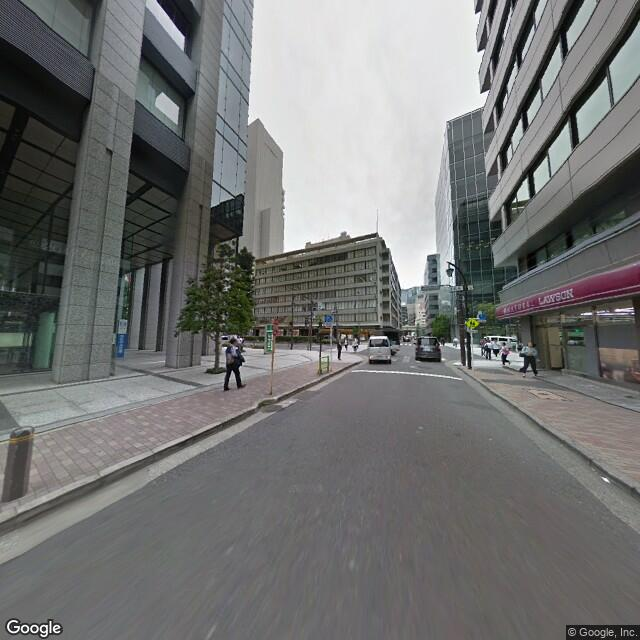lawson: (497, 261, 639, 321)
